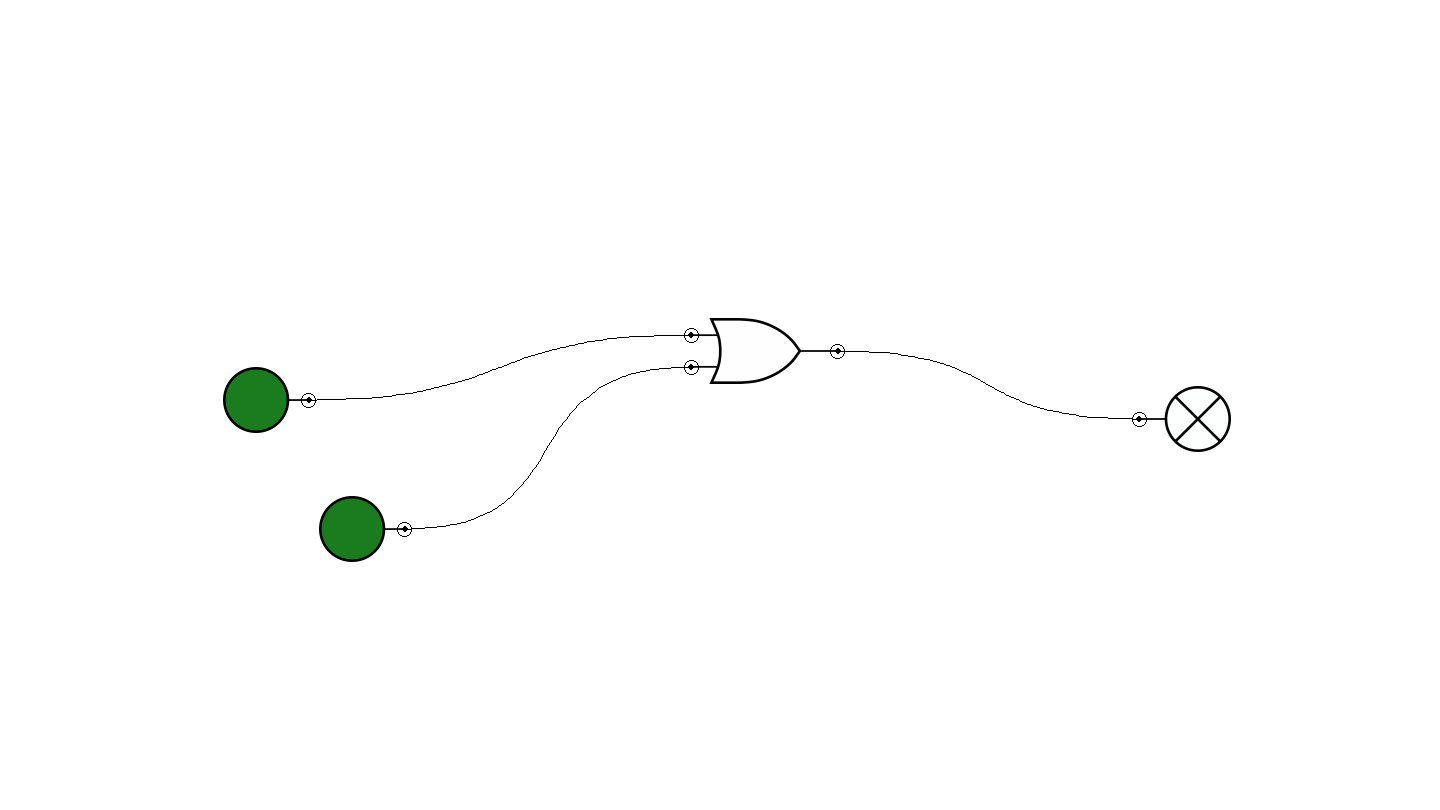bulb: (1132, 386, 1231, 452)
or: (684, 318, 845, 384)
switch_True: (223, 367, 316, 433), (319, 496, 412, 562)
